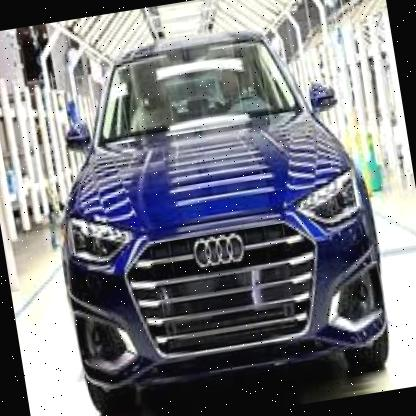car: (22, 2, 411, 416)
